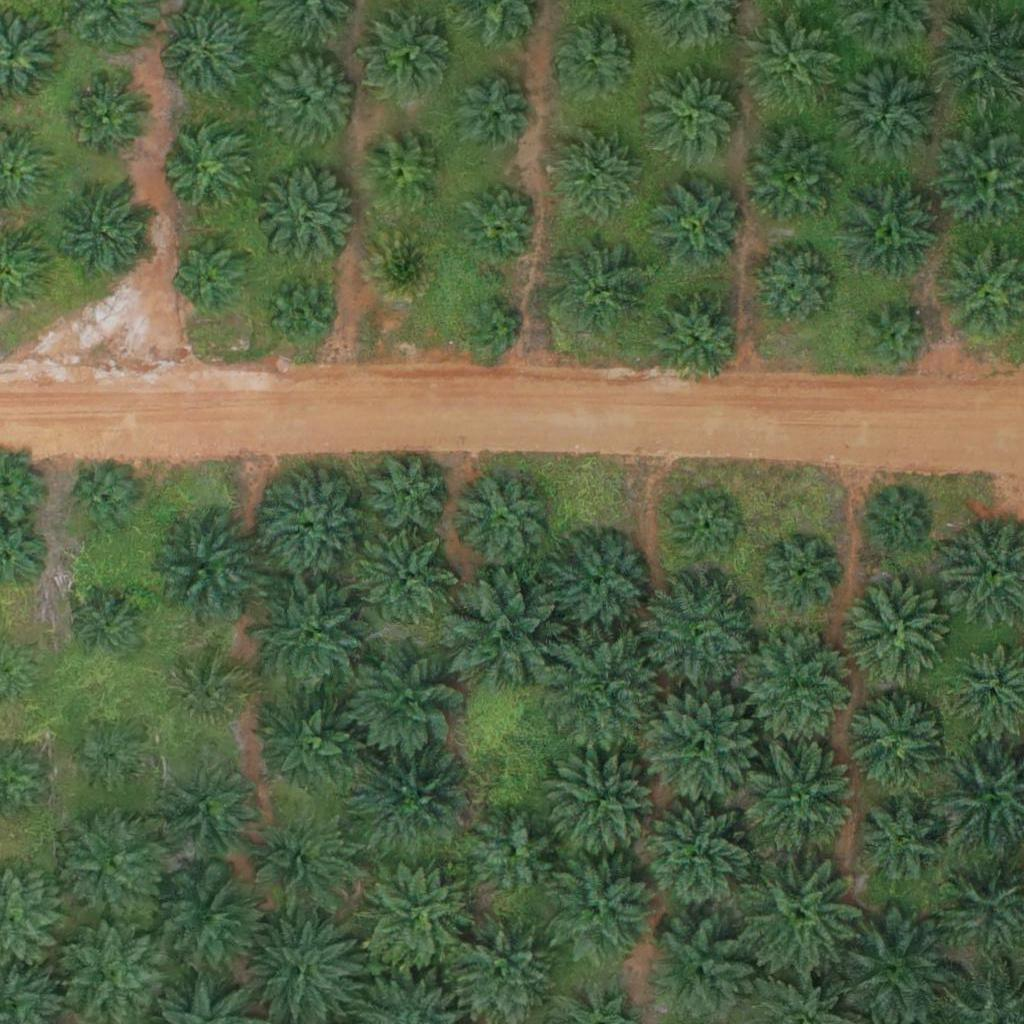Kelapa_Sawit: (141, 507, 266, 633), (248, 568, 373, 694), (343, 638, 468, 764), (440, 571, 565, 697), (543, 630, 668, 756), (637, 795, 762, 921), (738, 737, 863, 863), (737, 852, 862, 978), (549, 748, 662, 862), (151, 864, 264, 977), (547, 853, 660, 966), (741, 630, 854, 743), (644, 686, 756, 800), (57, 804, 169, 917), (257, 690, 369, 803), (244, 806, 356, 919), (356, 743, 468, 856), (361, 862, 473, 975), (639, 571, 751, 684), (839, 62, 939, 163), (840, 184, 940, 285), (746, 11, 846, 112), (745, 128, 845, 229), (643, 69, 743, 170), (57, 184, 157, 285), (258, 471, 358, 572), (846, 580, 946, 681), (845, 695, 945, 796), (646, 286, 746, 386), (552, 236, 652, 336), (262, 50, 362, 150), (258, 168, 358, 268), (357, 528, 457, 628), (547, 534, 647, 634), (852, 791, 952, 891), (751, 242, 839, 330), (365, 13, 453, 101), (69, 74, 157, 162), (471, 809, 559, 897), (656, 182, 743, 270), (550, 13, 637, 101), (552, 125, 639, 213), (162, 8, 249, 96), (168, 127, 255, 215), (166, 762, 253, 850), (363, 449, 450, 537), (457, 475, 544, 563), (365, 138, 440, 214), (455, 77, 530, 153), (668, 492, 743, 568), (857, 301, 932, 377), (462, 186, 537, 262), (366, 227, 441, 303), (264, 276, 339, 352), (172, 655, 247, 730), (765, 536, 840, 611), (174, 235, 249, 310), (66, 461, 141, 536), (69, 591, 144, 666), (75, 721, 150, 796), (866, 490, 929, 553), (464, 299, 526, 362)
